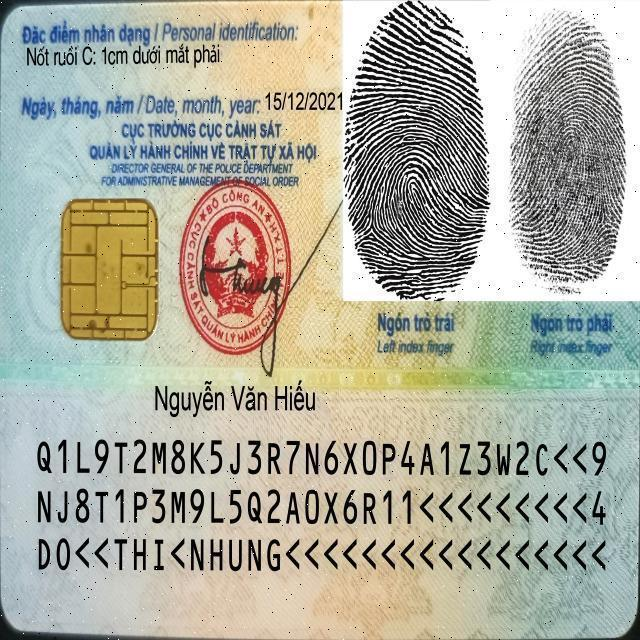features: (24, 40, 227, 70)
finger_print: (342, 0, 496, 361), (497, 1, 640, 359)
issue_date: (263, 87, 344, 116)
